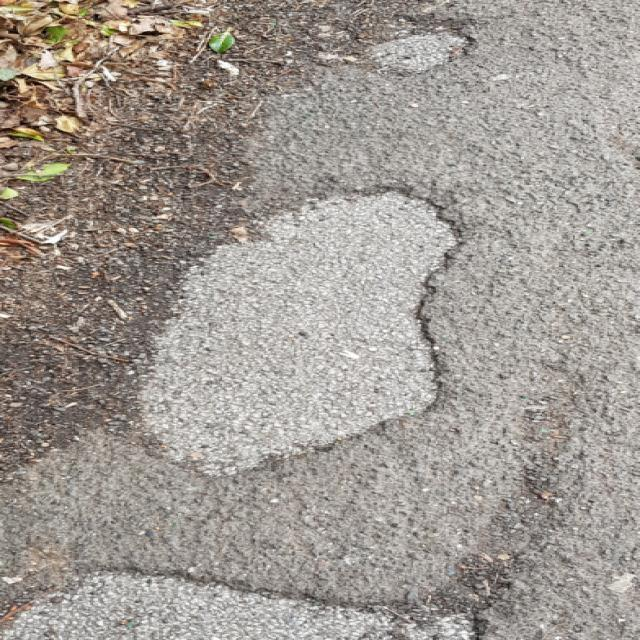pothole: (126, 187, 472, 478), (1, 564, 488, 640), (354, 23, 484, 73)
